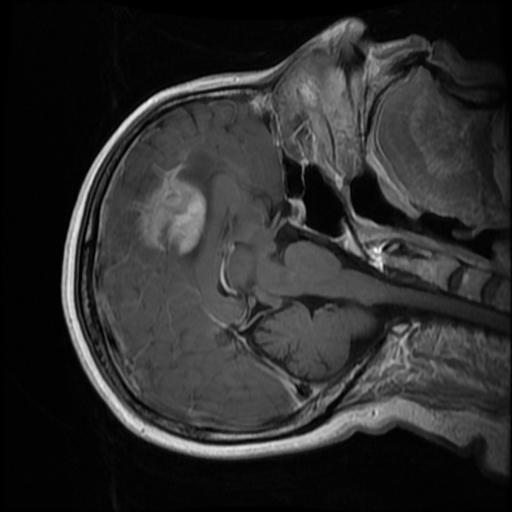meningioma: (137, 163, 206, 254)
